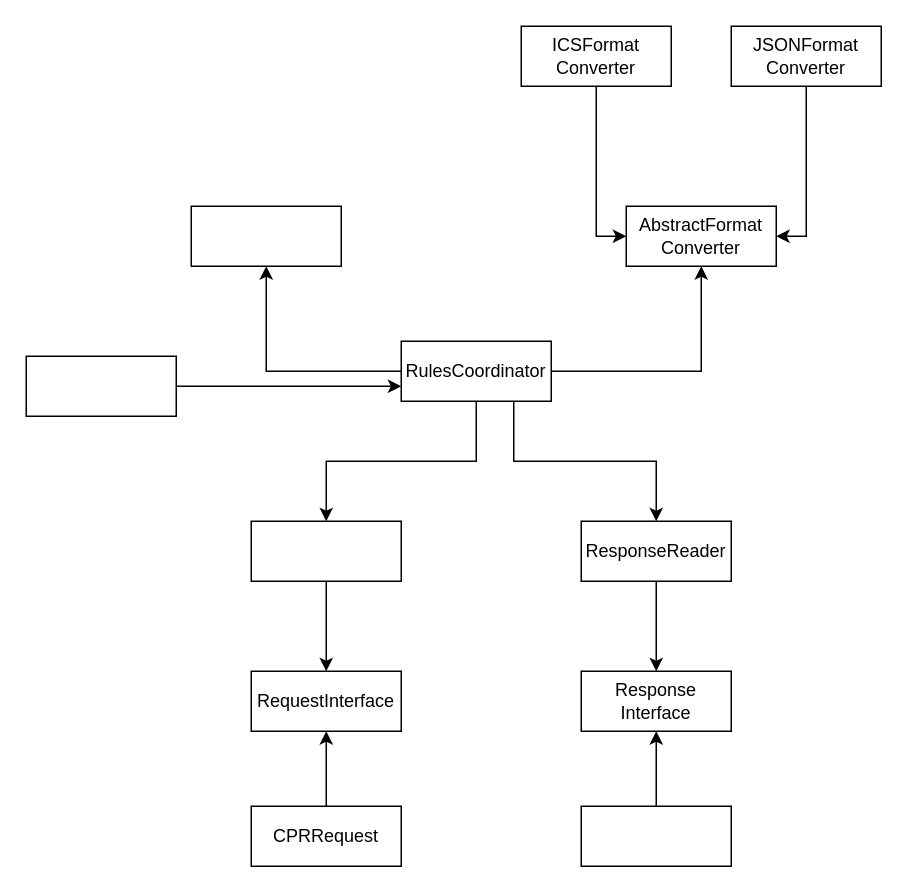
The diagram is 908 pixels wide and 893 high, and some of its shapes have lost their labels. Here are the shapes that lost their labels. From the top down, the centre of each, then its label:
(x=265, y=235): EventStorage
(x=100, y=385): Application
(x=325, y=550): RequestWriter
(x=655, y=835): CPRResponse
